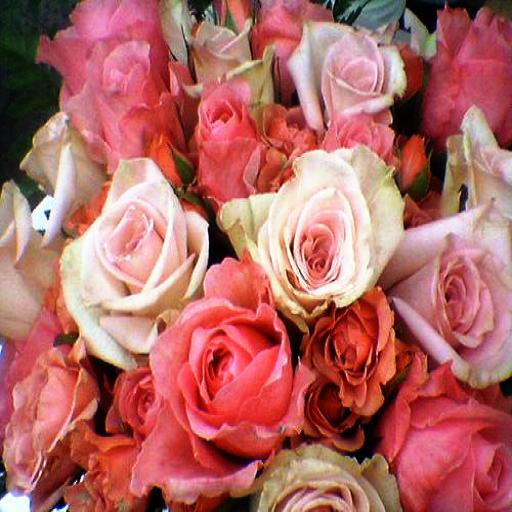rose: (148, 251, 305, 466), (61, 166, 201, 346), (246, 147, 399, 310), (397, 198, 512, 370), (397, 381, 512, 512), (297, 24, 403, 122), (266, 448, 396, 512)
